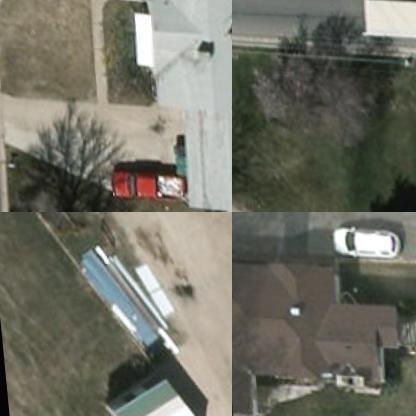car: (326, 220, 402, 256)
pickup: (102, 168, 180, 198)
truck: (357, 0, 415, 37)
